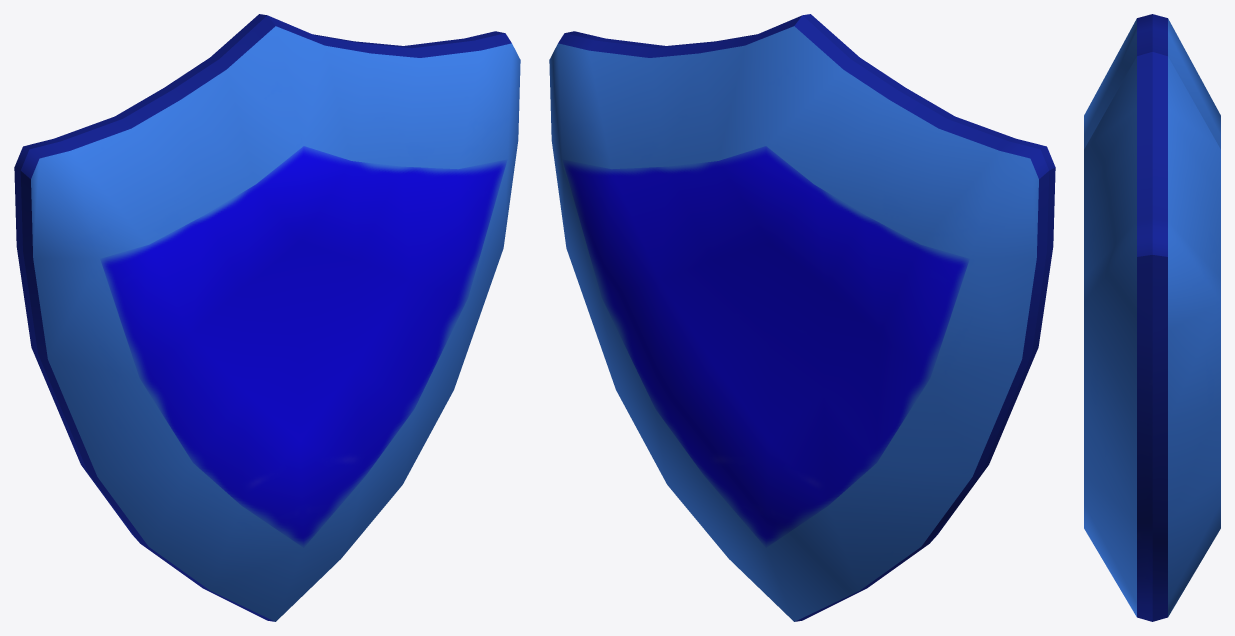
Rendered from Shield.fbx.
3 renders of one model, left to right at view 1: azimuth 30°, elevation 25°; view 2: azimuth 150°, elevation 25°; view 3: azimuth 270°, elevation 25°, orthographic. The views are drawn at different scales.
Parts seen in each view (by area): view 1: pCube1; view 2: pCube1; view 3: pCube1.
Boxes of the visible parts, <box> form: pCube1: <box>14,14,520,621</box>; pCube1: <box>549,14,1055,621</box>; pCube1: <box>1084,14,1220,621</box>.
Size of the model in its own units: 2.08 by 2.44 by 0.5317.
